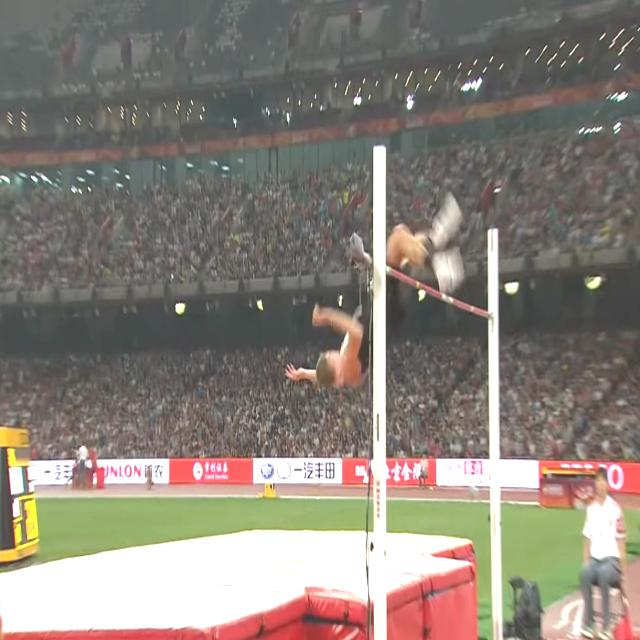land: (285, 194, 466, 387)
